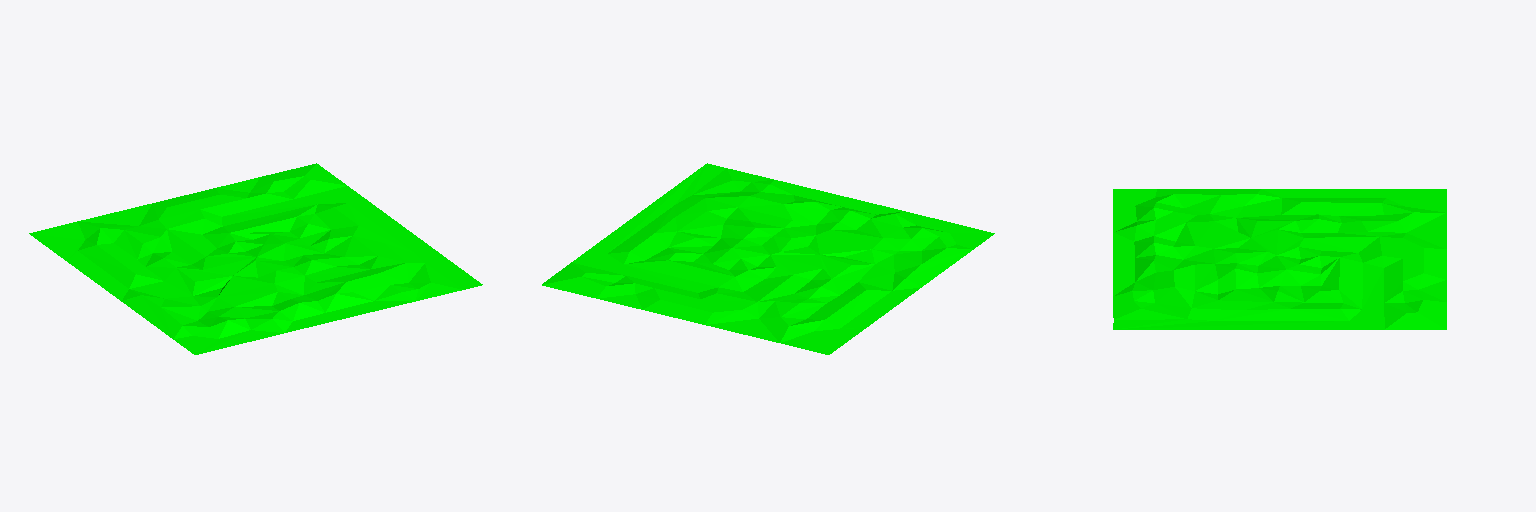
The model's file is Terrain01.obj.
The picture shows the model from 3 angles: view 1: azimuth 30°, elevation 25°; view 2: azimuth 150°, elevation 25°; view 3: azimuth 270°, elevation 25°; orthographic projection.
Parts seen in each view (by area): view 1: Plane; view 2: Plane; view 3: Plane.
Part boxes in pixels (bbox=[...]): Plane: bbox=[29, 163, 482, 354]; Plane: bbox=[542, 163, 994, 354]; Plane: bbox=[1113, 189, 1446, 329].
Bounding box in the file's own units: 50 × 1.35 × 50.01.